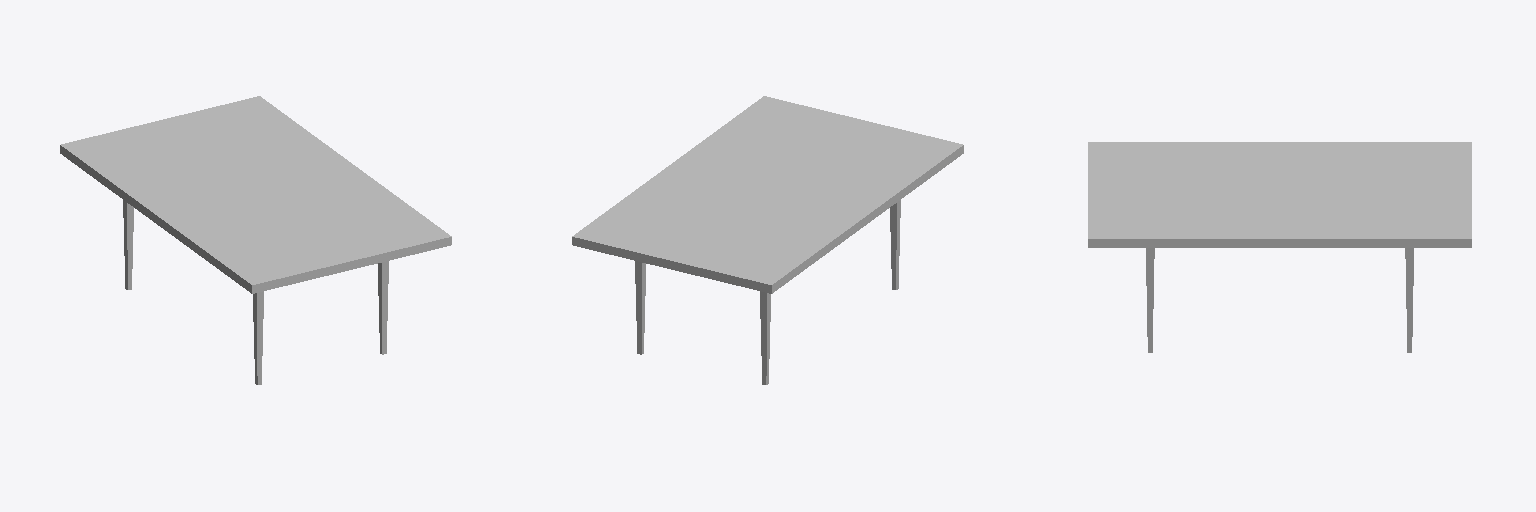
Rendered from table.obj.
The picture shows the model from 3 angles: view 1: azimuth 30°, elevation 25°; view 2: azimuth 150°, elevation 25°; view 3: azimuth 270°, elevation 25°; orthographic projection.
Visible parts, largest first — view 1: Cube_Cube.001, Cube.001_Cube.002; view 2: Cube_Cube.001, Cube.001_Cube.002; view 3: Cube_Cube.001, Cube.001_Cube.002.
Boxes of the visible parts, box(x1,y1,x2,y2) form: Cube_Cube.001: box(60, 96, 451, 293); Cube.001_Cube.002: box(123, 200, 388, 384); Cube_Cube.001: box(572, 96, 963, 293); Cube.001_Cube.002: box(635, 200, 900, 384); Cube_Cube.001: box(1088, 142, 1471, 247); Cube.001_Cube.002: box(1146, 248, 1413, 352).
Bounding box in the file's own units: 1.2 × 0.75 × 2.